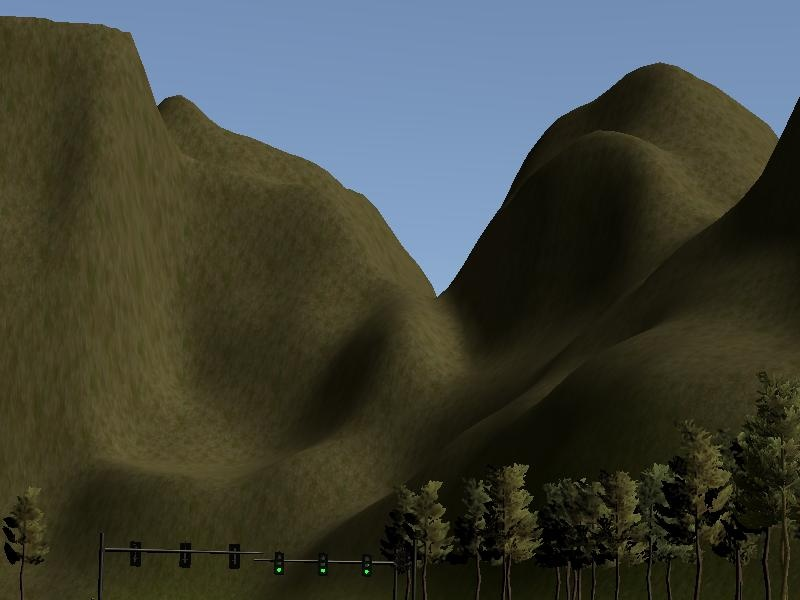green: (315, 550, 331, 579), (272, 550, 284, 578), (360, 553, 372, 581)
